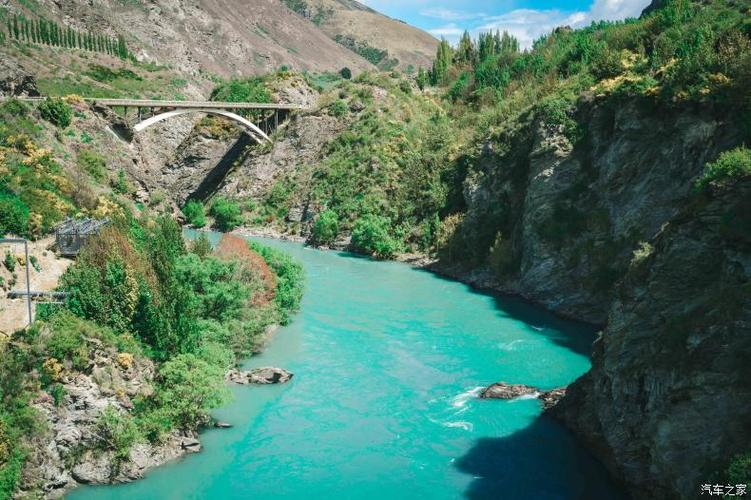sea_river: (223, 265, 540, 481)
